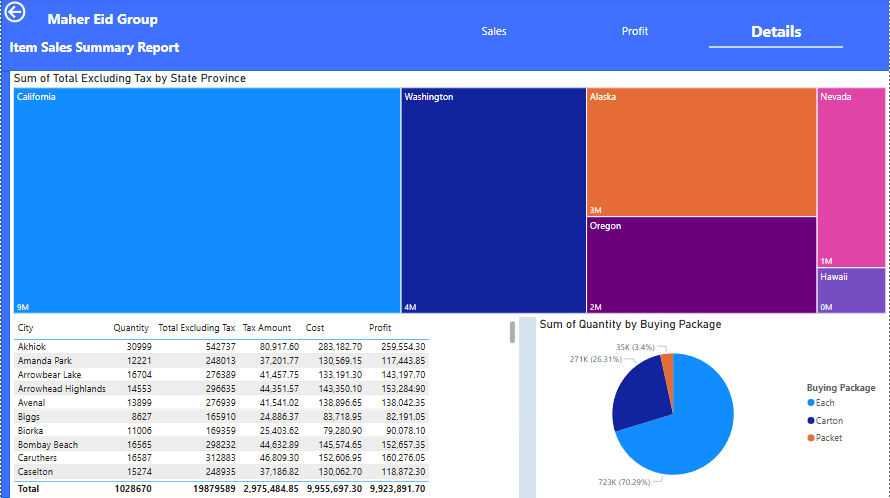

The page's visual inventory and layout, read from the dashboard file:
{"tool":"powerbi","page":{"name":"Details","canvas":[1280,720],"ordinal":2},"visuals":[{"type":"shape","box":[0,0,1280.2,105.1],"z":0},{"type":"shape","box":[0,105.1,13,614.9],"z":1000},{"type":"textbox","box":[7.2,53.3,262.1,36],"z":3000},{"type":"shape","box":[50.4,5.8,191.5,47.5],"z":4000},{"type":"actionButton","box":[0,0,100,40],"z":12000},{"type":"pageNavigator","box":[613.4,21.6,600.5,50.4],"z":13000},{"type":"tableEx","fields":{"Values":["DimCity.City","FactSale.Quantity","FactSale.Total Excluding Tax","FactSale.Tax Amount","FactSale.Cost","FactSale.Profit"]},"box":[13,459.4,733,260.6],"z":13001},{"type":"treemap","fields":{"Group":["DimCity.State Province"],"Values":["FactSale.Total Excluding Tax"]},"box":[13,105.1,1267.2,354.2],"z":13002},{"type":"pieChart","fields":{"Category":["DimStockItem.Buying Package"],"Y":["FactSale.Quantity"]},"box":[770.4,459.4,509.8,260.6],"z":13003}]}

Visuals, with their boxes in screenshot pixels (x1, y1, x2, y2), scaled from the page's 1280x720 canvas onto the 890x498 screenshot:
shape: box(0, 0, 889, 73)
shape: box(0, 73, 9, 497)
textbox: box(5, 37, 187, 62)
shape: box(35, 4, 168, 37)
actionButton: box(0, 0, 70, 28)
pageNavigator: box(427, 15, 844, 50)
tableEx - DimCity.City x FactSale.Quantity: box(9, 318, 519, 497)
treemap - DimCity.State Province x FactSale.Total Excluding Tax: box(9, 73, 889, 318)
pieChart - DimStockItem.Buying Package x FactSale.Quantity: box(536, 318, 889, 497)
